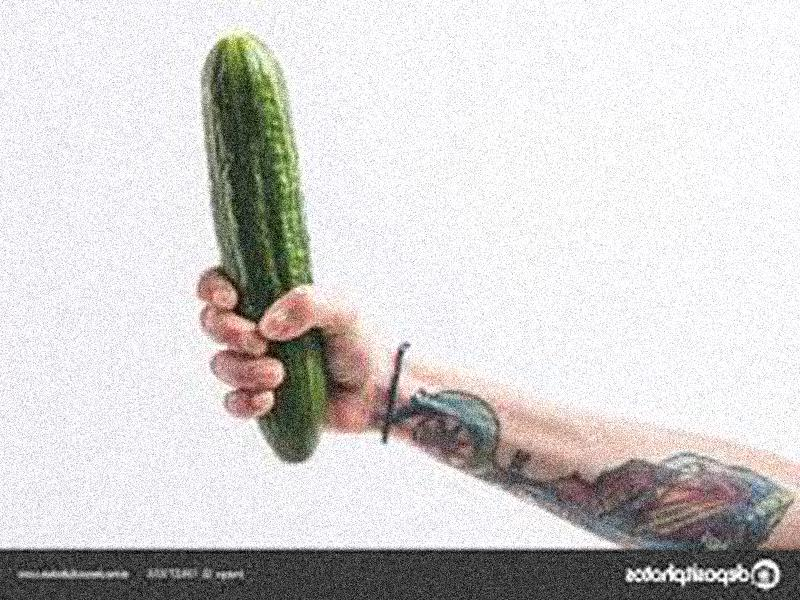Cucumber: (200, 28, 324, 459)
